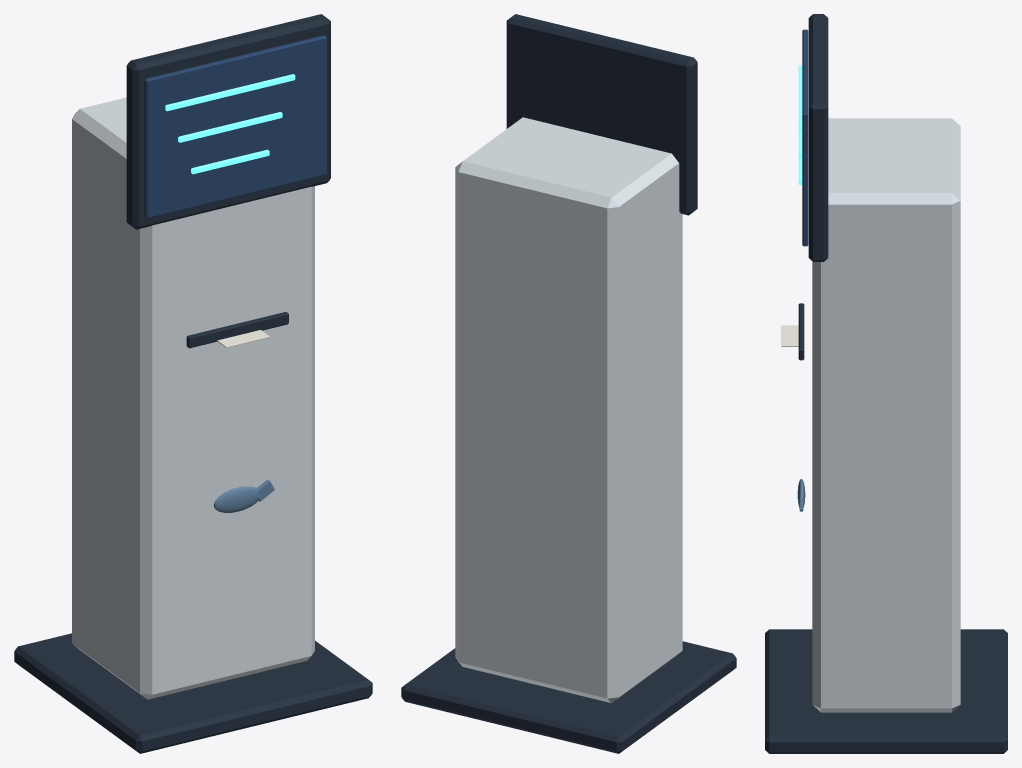
File: clinic_02.glb
3 views of the same model, side by side, from view 1: azimuth 30°, elevation 25°; view 2: azimuth 150°, elevation 25°; view 3: azimuth 270°, elevation 25° (orthographic). The views are drawn at different scales.
Parts seen in each view (by area): view 1: KioskBody, Screen, KioskBase, MonitorFrame, DisplayLine (×2), TicketSlot, WhaleBody; view 2: KioskBody, MonitorFrame, KioskBase; view 3: KioskBody, KioskBase, MonitorFrame, Screen.
Part boxes in pixels (<box>): KioskBody: <box>72,97,314,699</box>; Screen: <box>144,35,326,218</box>; KioskBase: <box>14,633,372,753</box>; MonitorFrame: <box>126,14,330,229</box>; DisplayLine (×2): <box>165,74,295,142</box>; TicketSlot: <box>186,312,288,348</box>; WhaleBody: <box>213,486,258,512</box>; KioskBody: <box>455,117,682,702</box>; MonitorFrame: <box>506,14,697,215</box>; KioskBase: <box>401,641,736,753</box>; KioskBody: <box>812,118,960,712</box>; KioskBase: <box>765,629,1007,753</box>; MonitorFrame: <box>808,14,828,261</box>; Screen: <box>802,29,808,246</box>.
Size of the model in its own units: 0.54 by 1.46 by 0.5.
